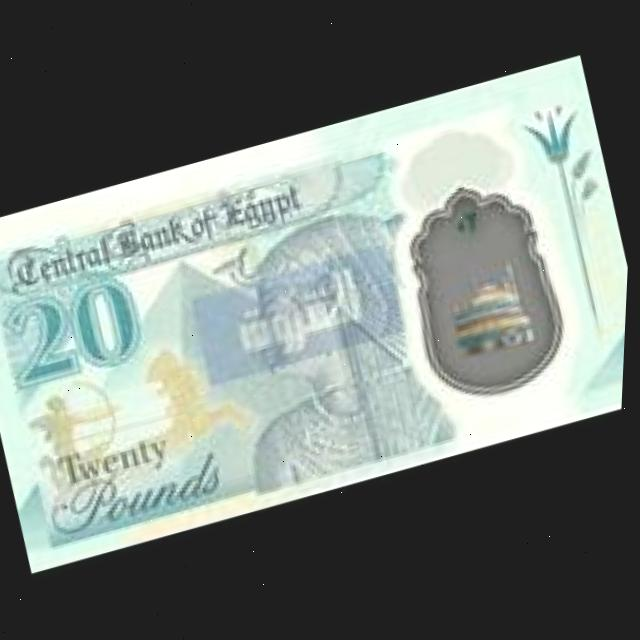banknote: (0, 51, 638, 573)
